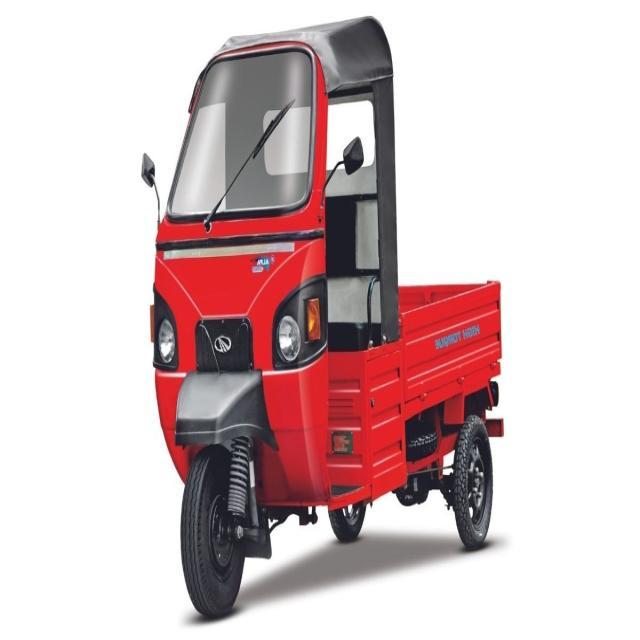autorickshaw: (151, 18, 502, 619)
